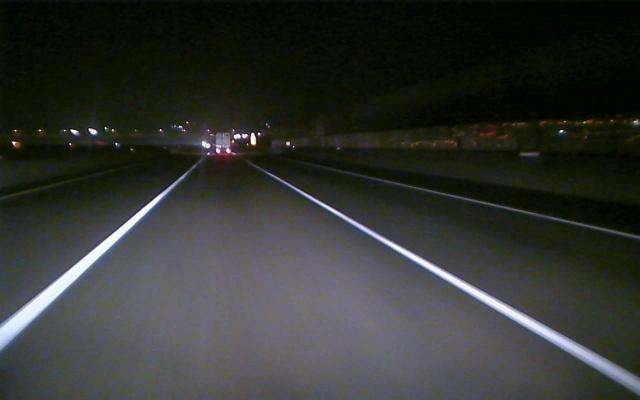lane: (275, 175, 638, 390), (3, 181, 178, 349), (357, 172, 640, 241)
